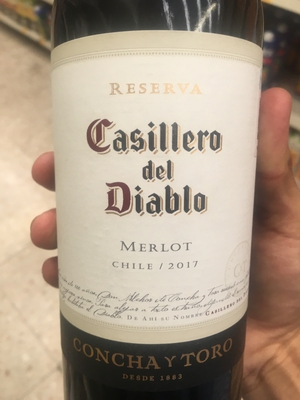casillero del diablo merlot: (48, 4, 267, 400)
